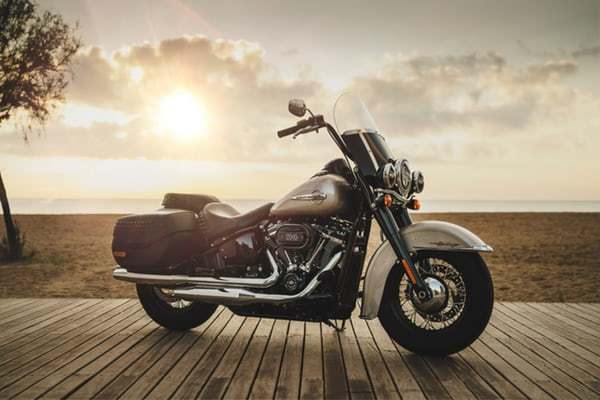21_label: (103, 76, 526, 360)
